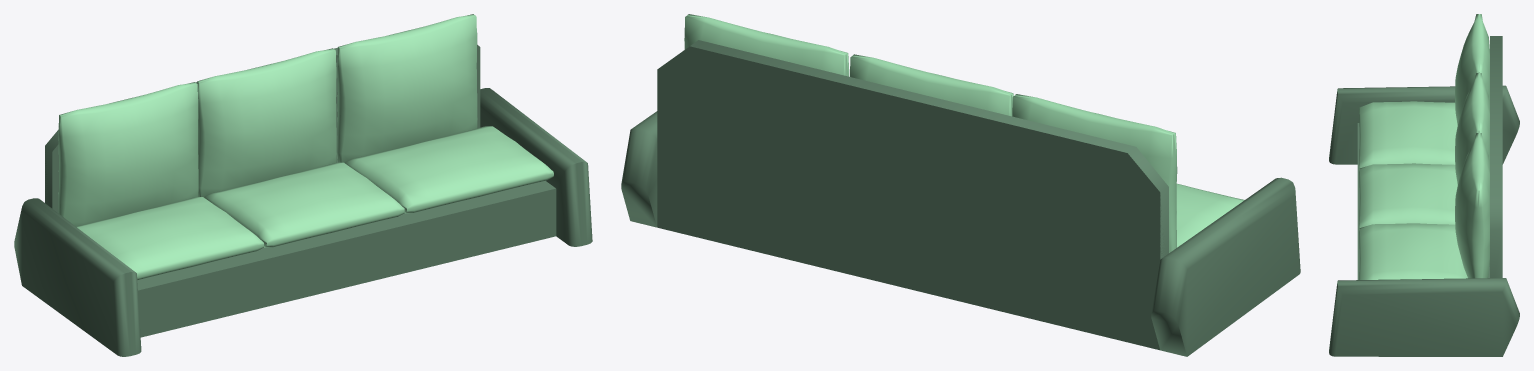
File: Sofa.fbx
3 renders of one model, left to right at view 1: azimuth 30°, elevation 25°; view 2: azimuth 150°, elevation 25°; view 3: azimuth 270°, elevation 25°, orthographic. The views are drawn at different scales.
Parts seen in each view (by area): view 1: Sofa; view 2: Sofa; view 3: Sofa.
Part boxes in pixels (box(x1,y1,x2,y2)): Sofa: box(14, 14, 592, 356); Sofa: box(621, 14, 1300, 356); Sofa: box(1329, 14, 1519, 356).
Bounding box in the file's own units: 279 × 98.69 × 111.
